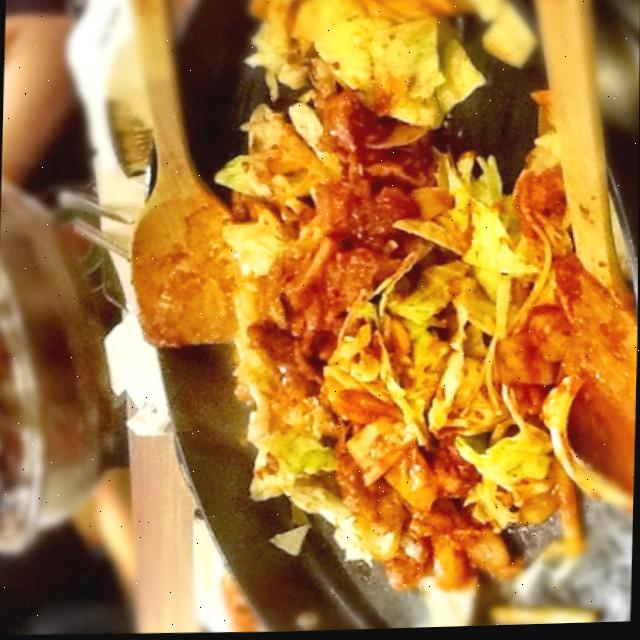鸡肉料理 含炸鸡: (110, 0, 640, 637)
